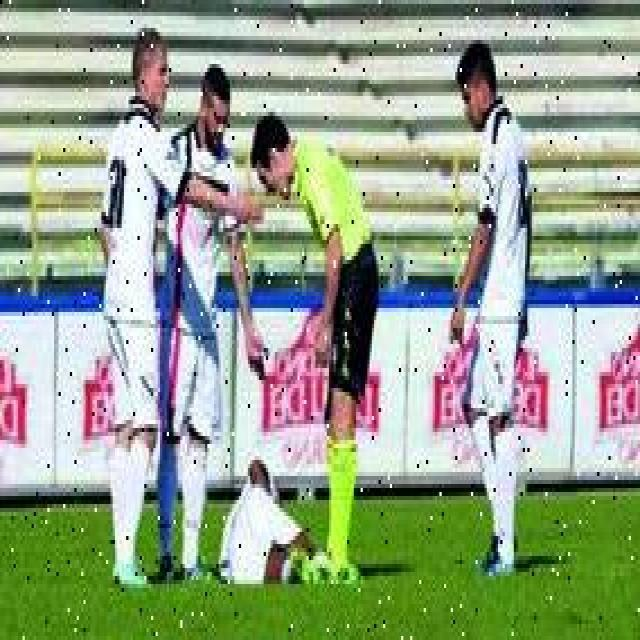fall: (221, 456, 329, 592)
